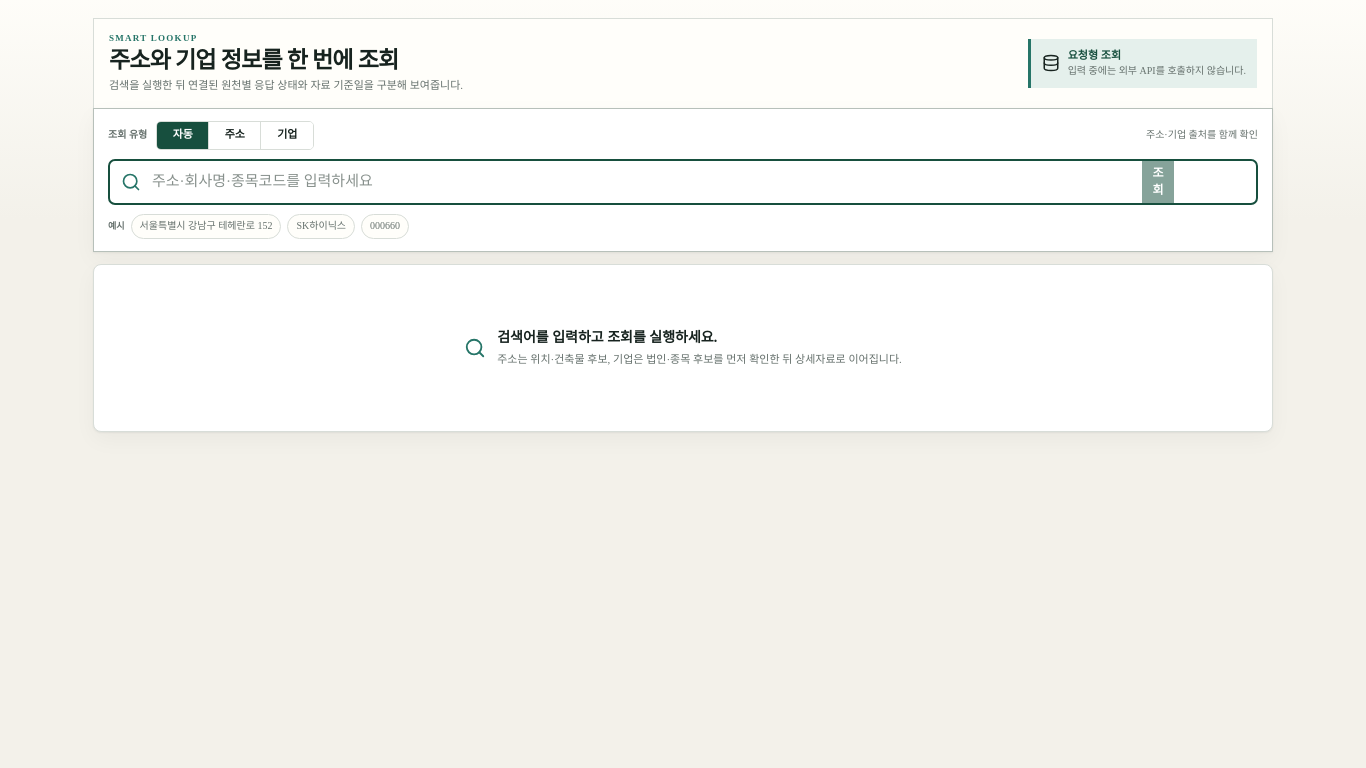
Test case: SmartApiSearch › shows an honest empty response and keeps the query available for editing
The image size is (1366, 768).
Step 1. Type "없는 주소 999" into the field labelled "주소·회사명·종목코드" → (647, 182), box top-left (152, 161), bottom-right (1142, 203)
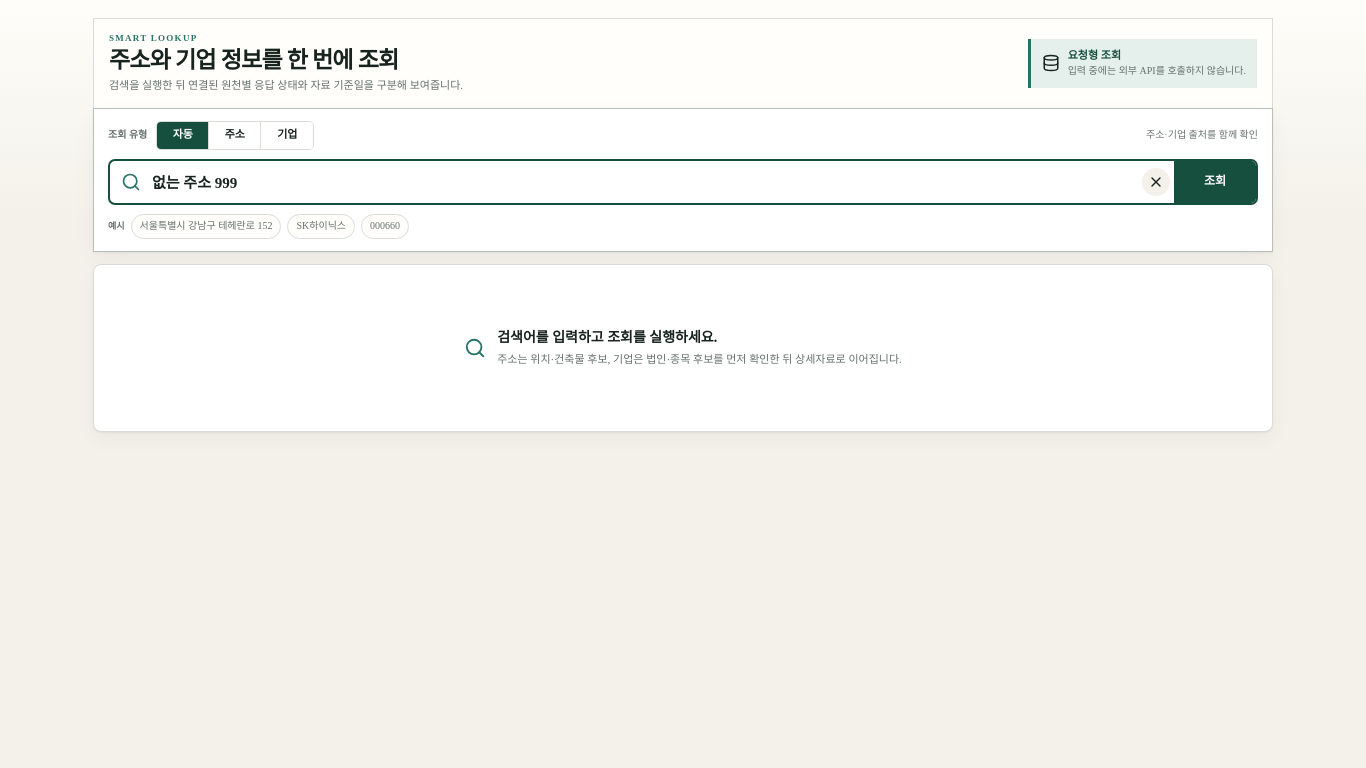
Step 2. Click the button "주소" → (235, 135), box top-left (209, 122), bottom-right (261, 149)
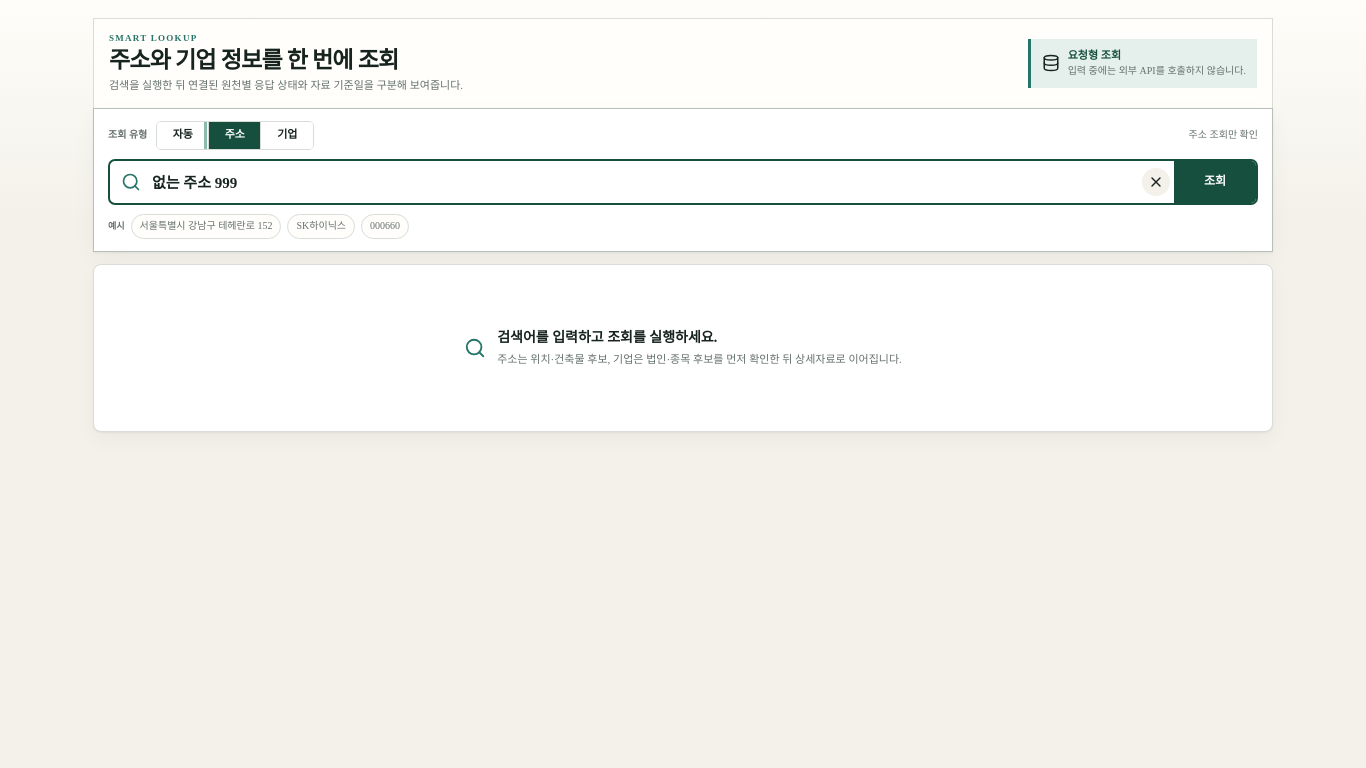
Step 3. Click the button "조회" → (1215, 182), box top-left (1174, 161), bottom-right (1256, 203)
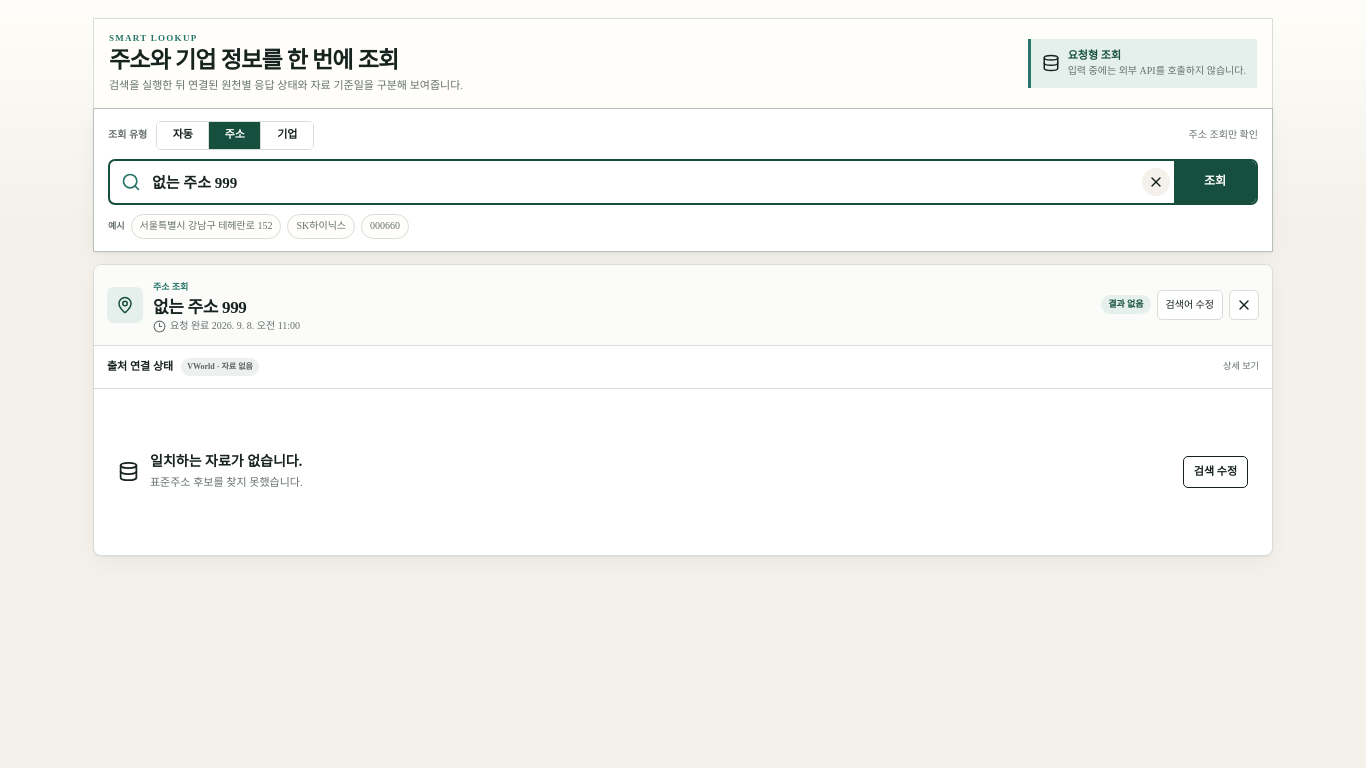
Now the text "일치하는 자료가 없습니다." is shown, box top-left (150, 452), bottom-right (303, 472)
Now the text "표준주소 후보를 찾지 못했습니다." is shown, box top-left (150, 475), bottom-right (303, 491)
